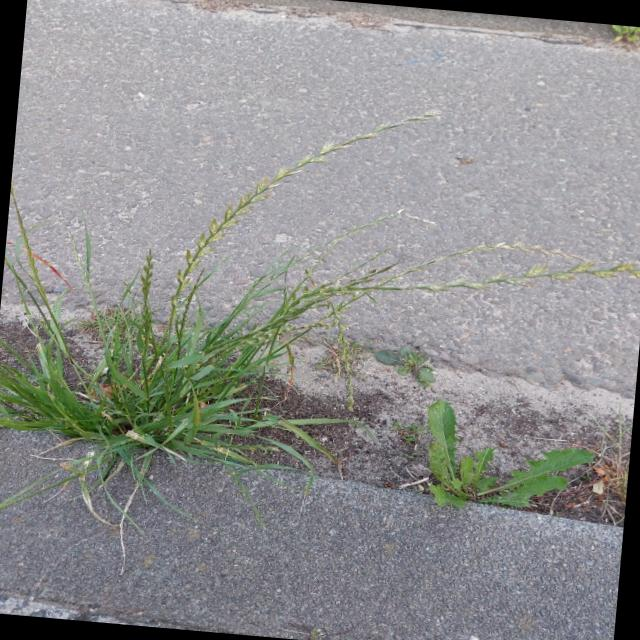Lolium: (169, 86, 435, 328), (282, 229, 640, 344), (318, 225, 594, 346), (264, 195, 440, 297), (317, 301, 365, 411), (4, 184, 48, 286), (178, 263, 206, 341), (134, 248, 154, 348), (63, 228, 94, 283)
